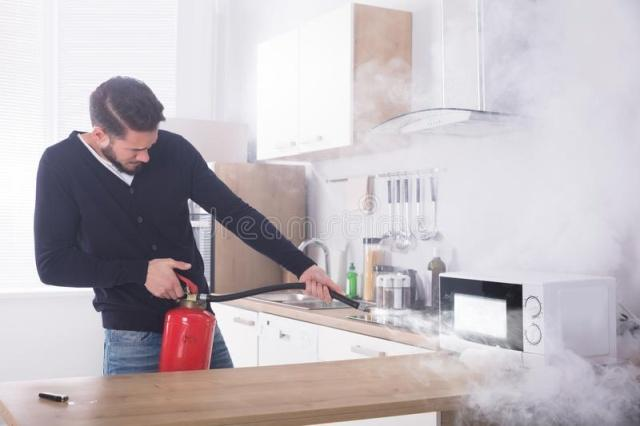APAR: (159, 271, 215, 372)
